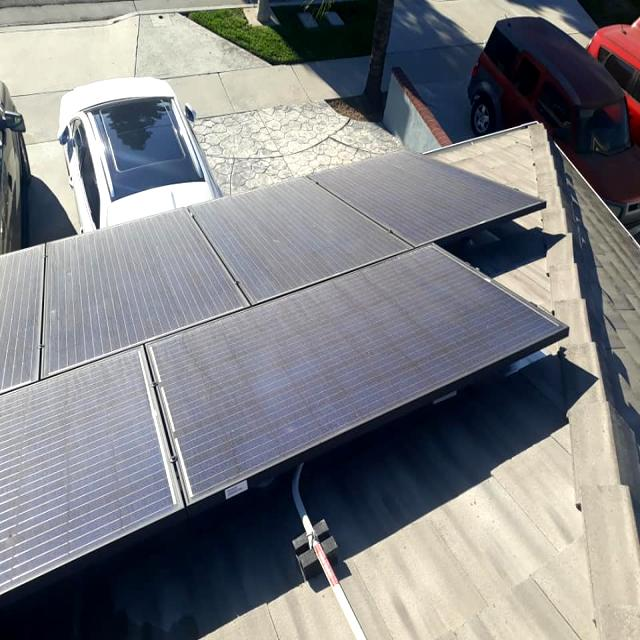dust: (171, 296, 423, 399), (8, 392, 106, 544), (66, 250, 174, 366), (236, 193, 324, 281), (367, 156, 435, 244)
